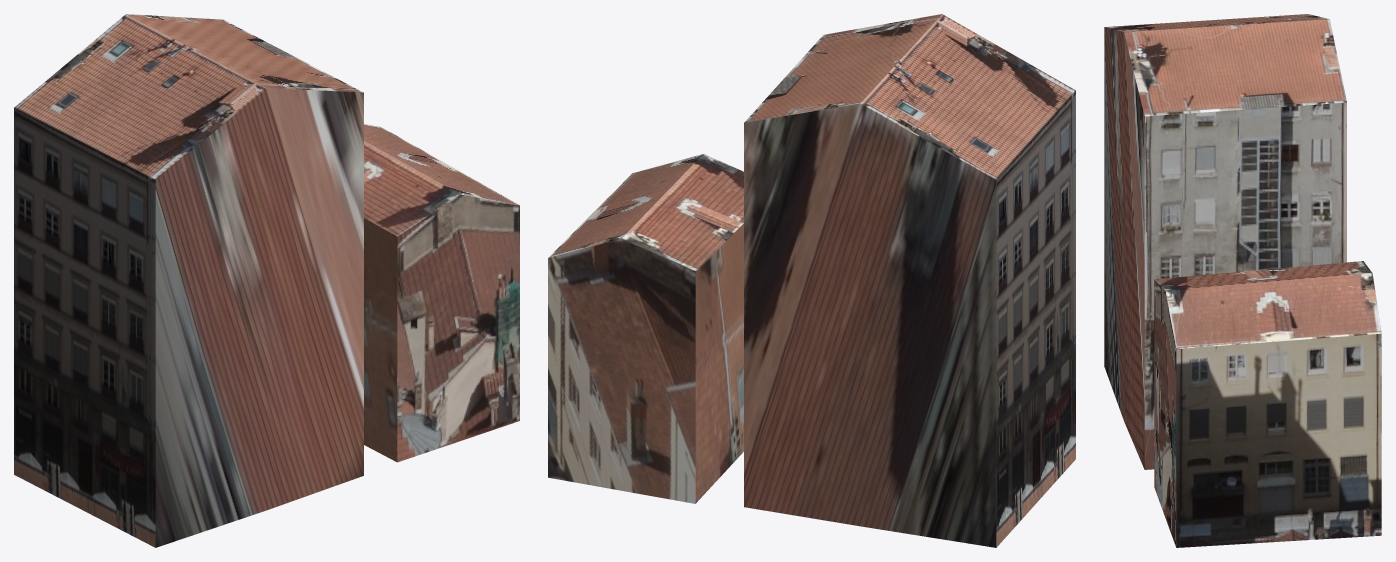
The picture shows the model from 3 angles, left to right: view 1: azimuth 30°, elevation 25°; view 2: azimuth 150°, elevation 25°; view 3: azimuth 270°, elevation 25°; orthographic projection. The views are drawn at different scales.
Visible parts, largest first — view 1: Z_UP; view 2: Z_UP; view 3: Z_UP.
Boxes of the visible parts, x1,y1,x2,y2 form: Z_UP: (14, 14, 519, 547); Z_UP: (548, 14, 1075, 547); Z_UP: (1104, 14, 1381, 547).
Bounding box in the file's own units: 28.74 × 26.68 × 17.23.
Materials: 2 (1 with a texture image).
